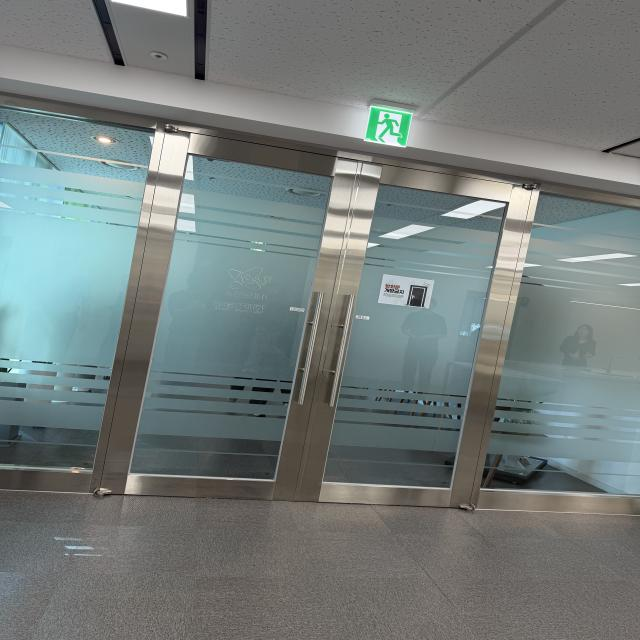front_door: (0, 105, 640, 514)
